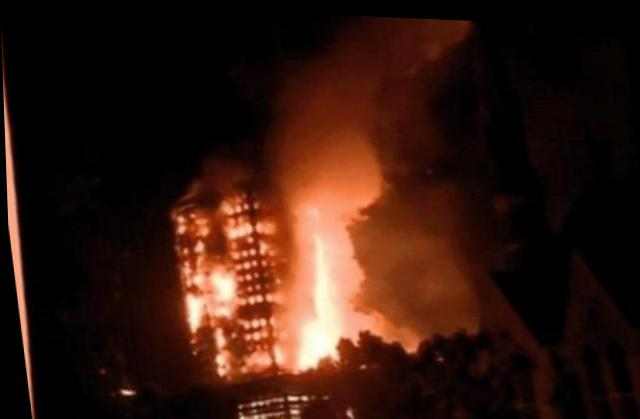fire: (166, 183, 351, 382)
